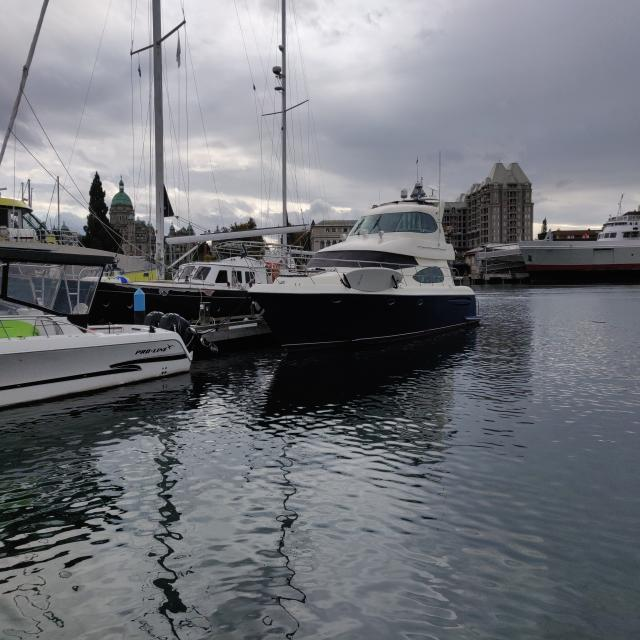boat: (31, 0, 315, 328), (248, 176, 480, 350), (0, 239, 199, 409), (519, 213, 640, 286)
